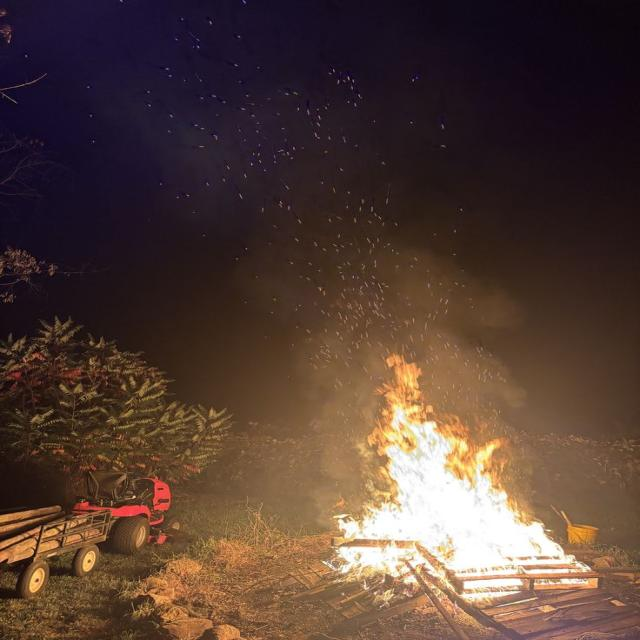fire: (337, 353, 589, 599)
